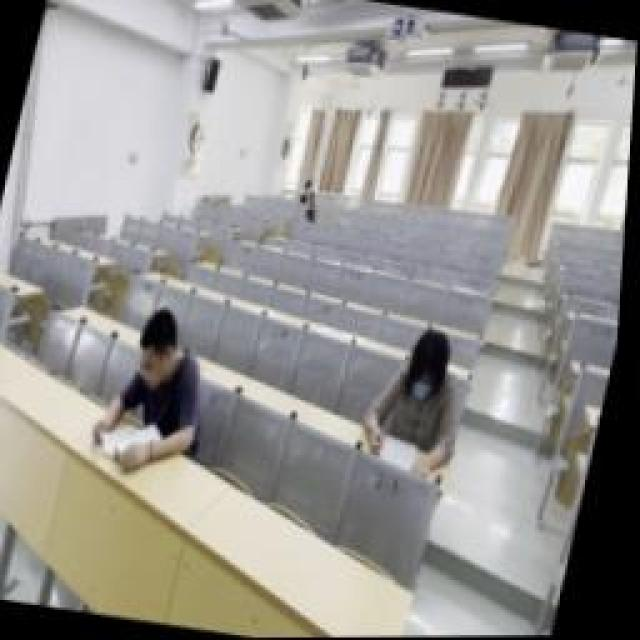study: (93, 305, 225, 477), (365, 322, 483, 472), (302, 177, 322, 205)
